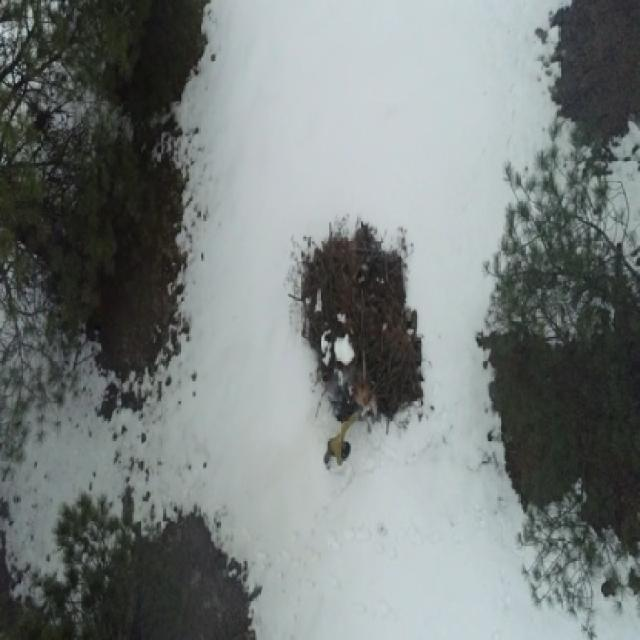Fire: (358, 385, 379, 411)
